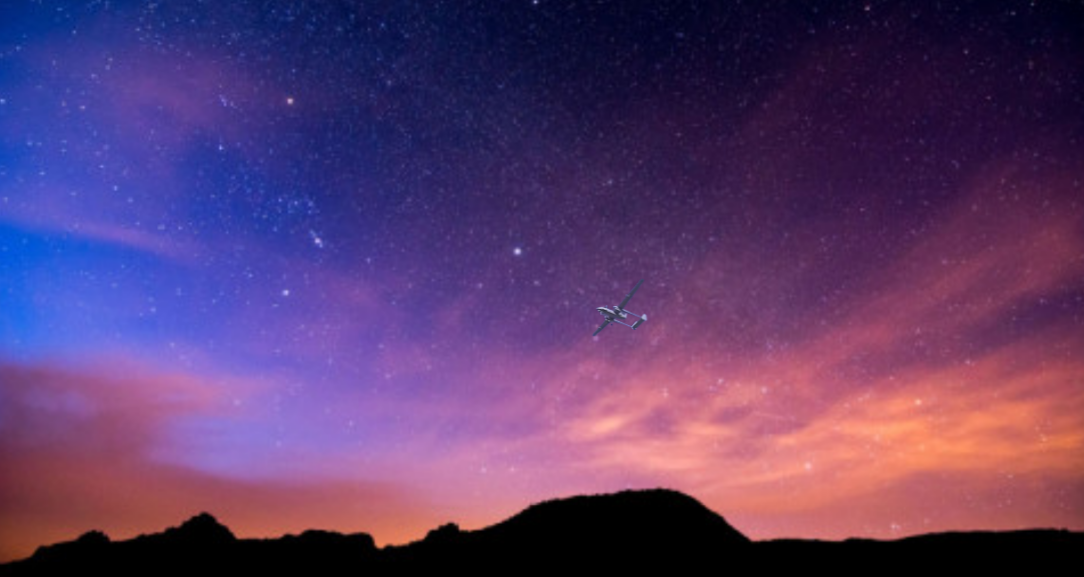military drone: (592, 277, 647, 335)
